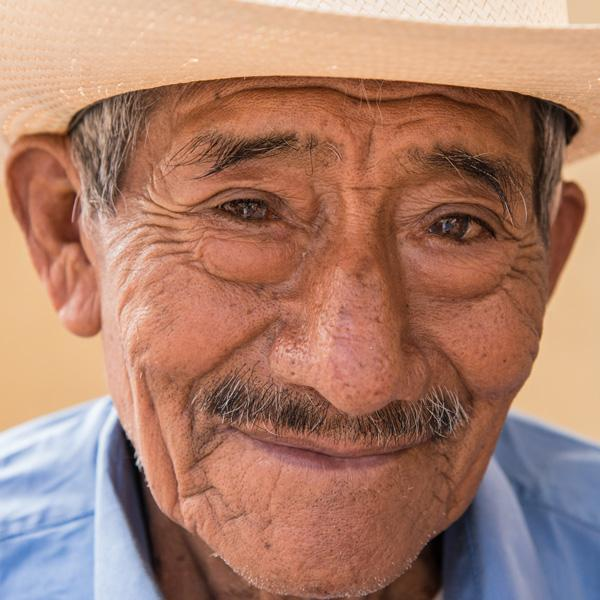Eyes: (401, 189, 514, 271), (185, 174, 298, 252)
